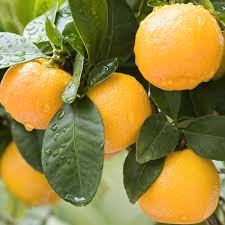orange: (132, 5, 223, 89), (128, 147, 221, 221), (72, 69, 150, 156), (1, 57, 73, 135)
